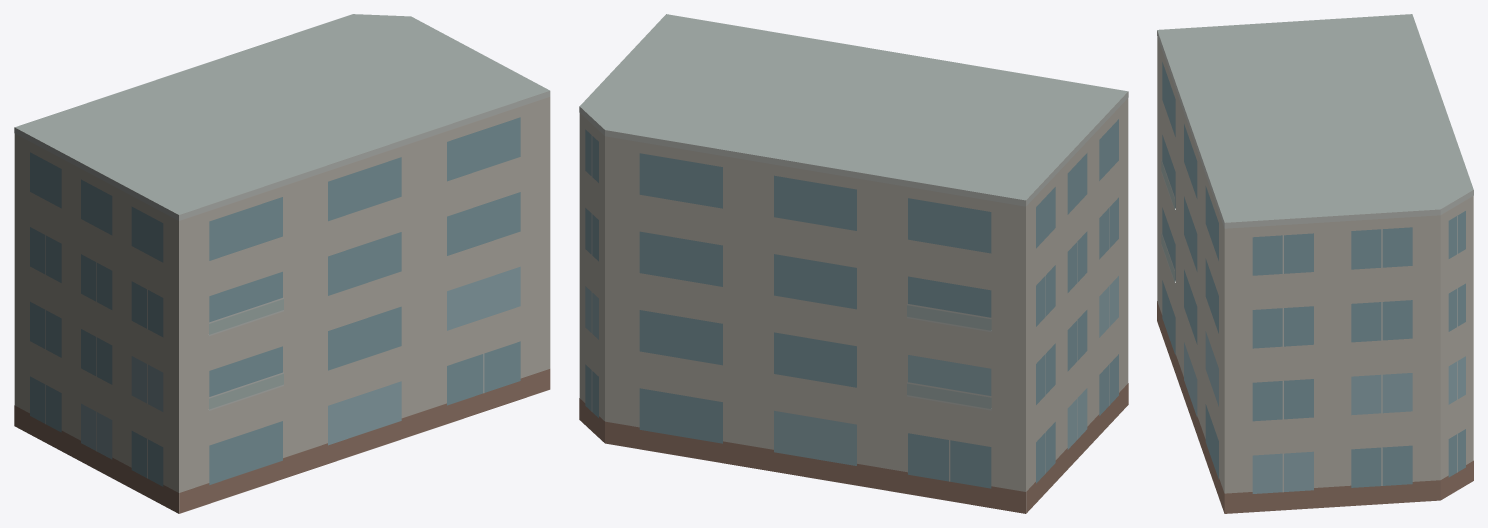
Rendered from survey-upis-32752585.glb.
The picture shows the model from 3 angles, left to right: view 1: azimuth 30°, elevation 25°; view 2: azimuth 150°, elevation 25°; view 3: azimuth 270°, elevation 25°; orthographic projection. The views are drawn at different scales.
Visible parts, largest first — view 1: survey-upis-32752585.tmp; view 2: survey-upis-32752585.tmp; view 3: survey-upis-32752585.tmp.
Boxes of the visible parts, <box> form: survey-upis-32752585.tmp: <box>14,14,550,513</box>; survey-upis-32752585.tmp: <box>579,14,1128,513</box>; survey-upis-32752585.tmp: <box>1157,14,1473,513</box>.
Size of the model in its own units: 18.79 by 12.2 by 12.04.
